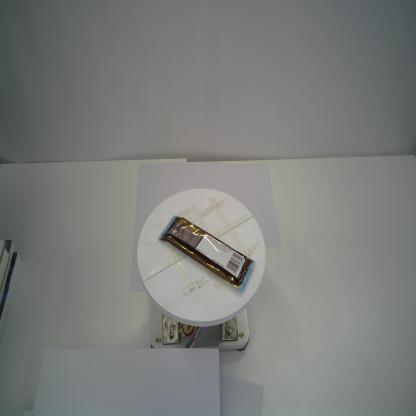Chocolate: (157, 214, 256, 294)
